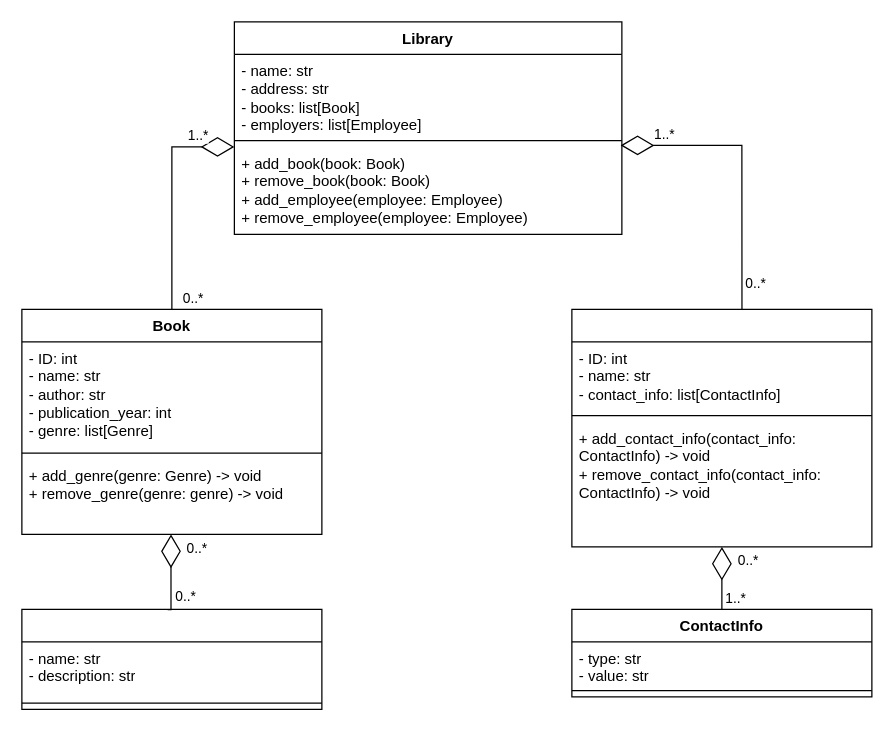
Image size: 894x731. Some labels were removed from this diagram. Each missing label, with the box of its shape:
Employee: (571, 308, 872, 547)
Genre: (21, 608, 322, 709)
